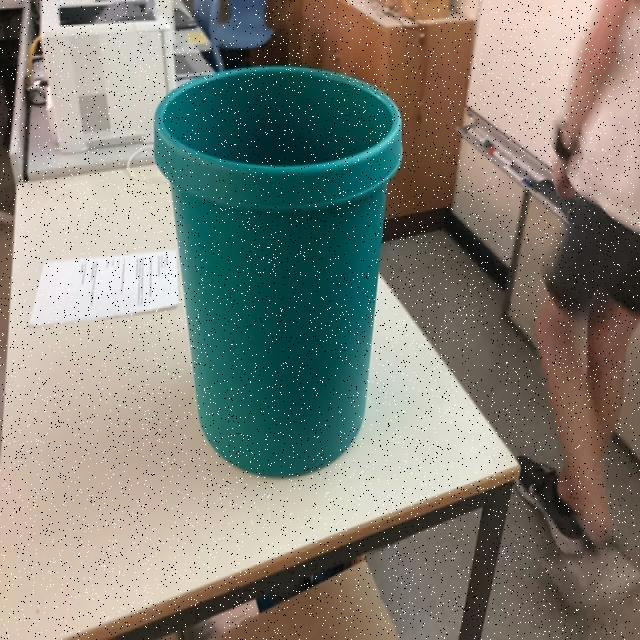garbage container: (128, 44, 409, 485)
